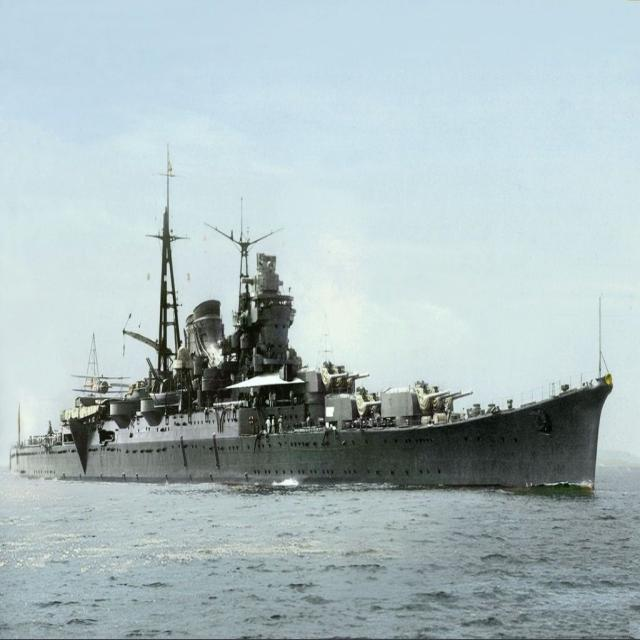navalvessels: (9, 159, 607, 509)
